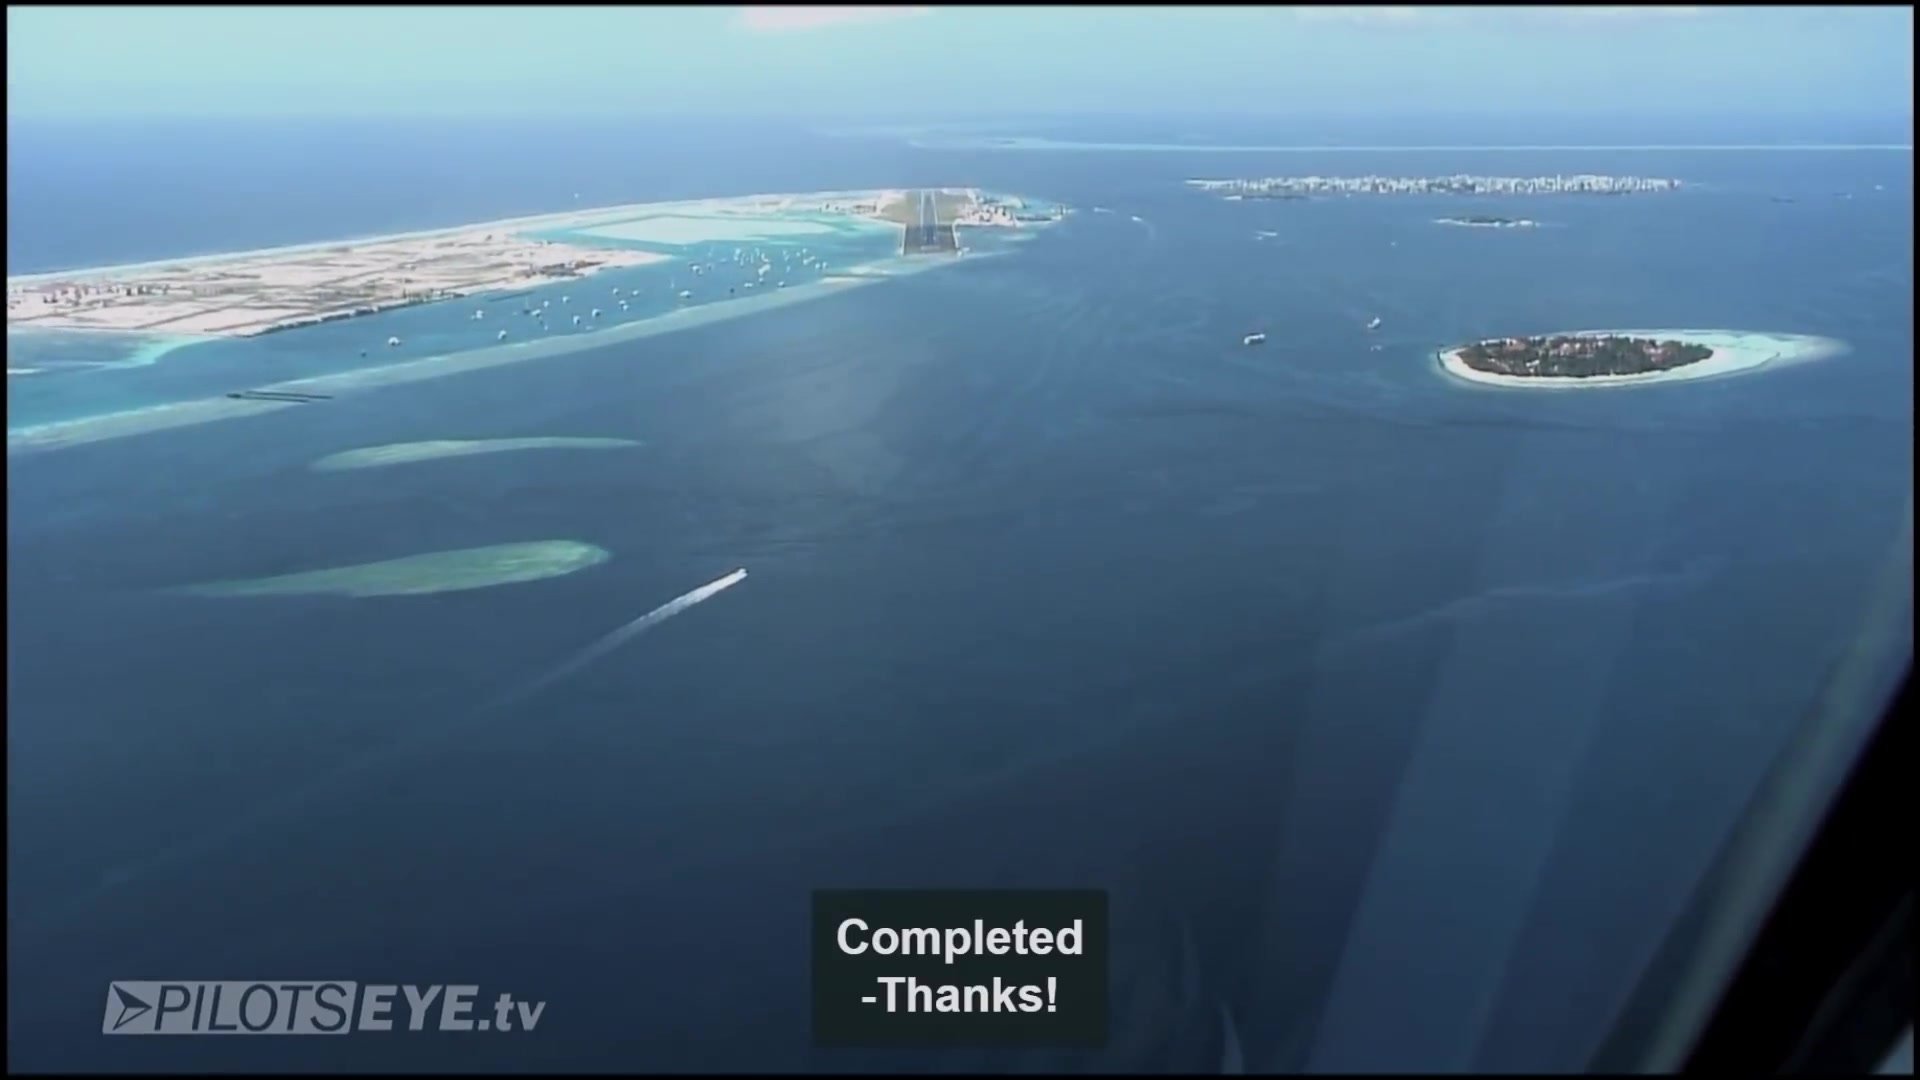runway: (919, 189, 942, 252)
